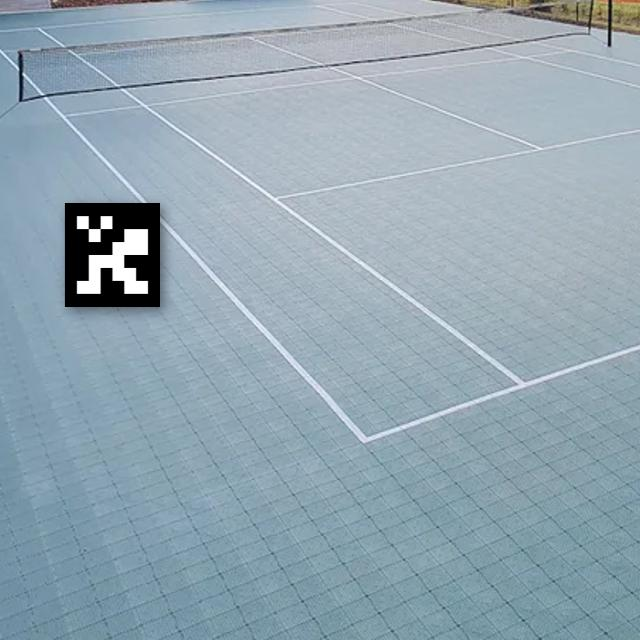marker: (49, 189, 179, 323)
